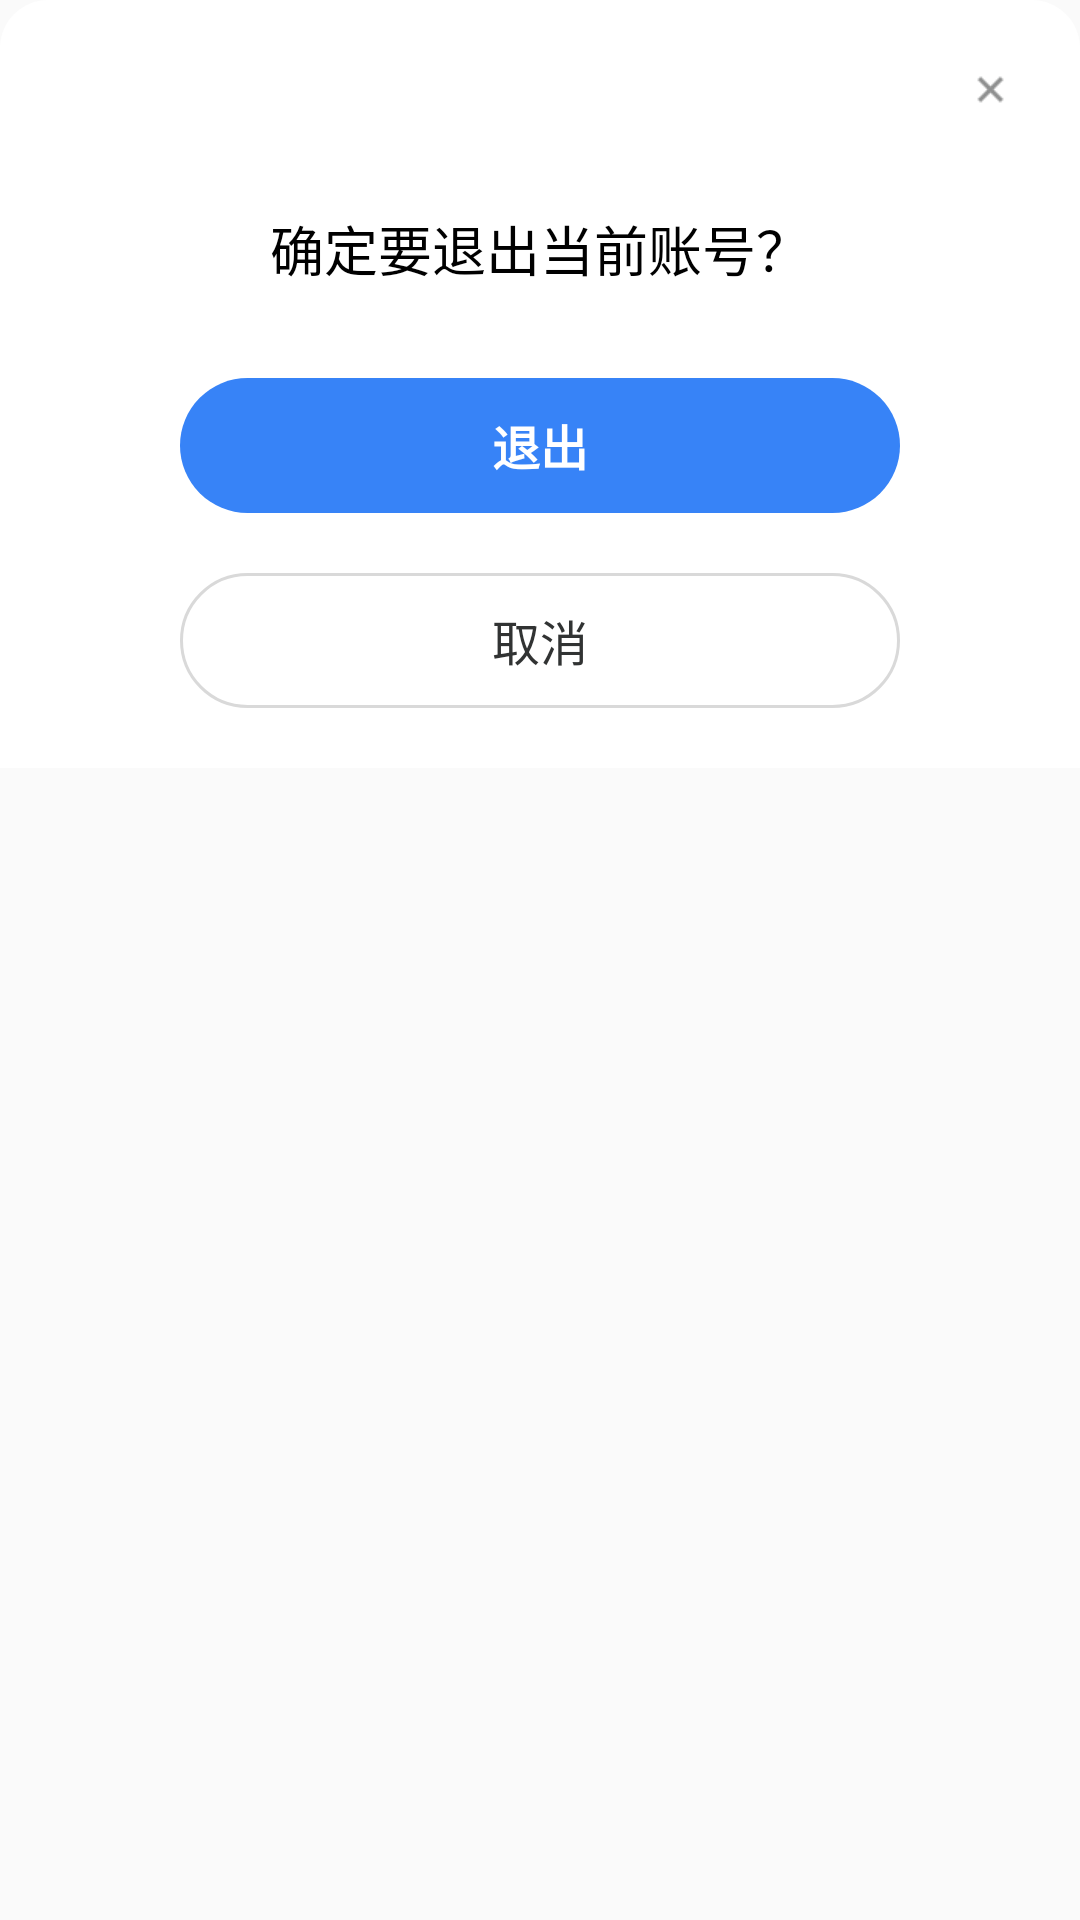

Named icons in this screenshot (1080x1920) and their centers, (x=x, y=y):
close: (x=990, y=89)
